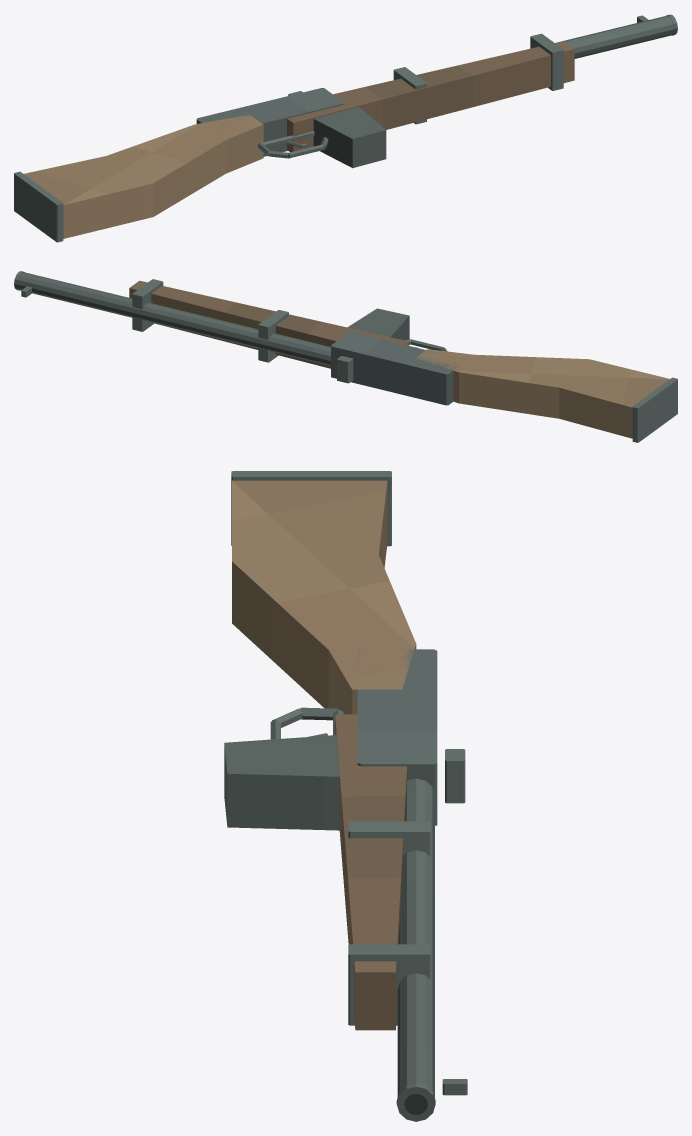
File: weapon-m1-carbine.glb
The picture shows the model from 3 angles, top to bottom: view 1: azimuth 30°, elevation 25°; view 2: azimuth 150°, elevation 25°; view 3: azimuth 270°, elevation 25°; orthographic projection. The views are drawn at different scales.
Visible parts, largest first — view 1: weapon-m1-carbine/shaped-solid-butt, weapon-m1-carbine/tapered-full-depth-forend, weapon-m1-carbine/box-magazine, weapon-m1-carbine/central-receiver, weapon-m1-carbine/butt-end-plate, weapon-m1-carbine/long-barrel, weapon-m1-carbine/stock-band-1, weapon-m1-carbine/stock-band-0; view 2: weapon-m1-carbine/shaped-solid-butt, weapon-m1-carbine/long-barrel, weapon-m1-carbine/central-receiver, weapon-m1-carbine/tapered-full-depth-forend, weapon-m1-carbine/butt-end-plate, weapon-m1-carbine/box-magazine, weapon-m1-carbine/stock-band-1, weapon-m1-carbine/stock-band-0, weapon-m1-carbine/rear-sight; view 3: weapon-m1-carbine/shaped-solid-butt, weapon-m1-carbine/tapered-full-depth-forend, weapon-m1-carbine/box-magazine, weapon-m1-carbine/long-barrel, weapon-m1-carbine/central-receiver, weapon-m1-carbine/stock-band-1, weapon-m1-carbine/butt-end-plate, weapon-m1-carbine/stock-band-0, weapon-m1-carbine/rear-sight.
Boxes of the visible parts, x1,y1,x2,y2 form: weapon-m1-carbine/shaped-solid-butt: (24,115,263,238); weapon-m1-carbine/tapered-full-depth-forend: (287,41,574,152); weapon-m1-carbine/box-magazine: (313,107,386,168); weapon-m1-carbine/central-receiver: (196,88,344,156); weapon-m1-carbine/butt-end-plate: (14,171,63,242); weapon-m1-carbine/long-barrel: (564,16,673,58); weapon-m1-carbine/stock-band-1: (530,33,563,90); weapon-m1-carbine/stock-band-0: (393,67,426,124); weapon-m1-carbine/shaped-solid-butt: (416,349,669,438); weapon-m1-carbine/long-barrel: (17,272,330,366); weapon-m1-carbine/central-receiver: (331,332,465,405); weapon-m1-carbine/tapered-full-depth-forend: (129,280,408,368); weapon-m1-carbine/butt-end-plate: (632,377,677,442); weapon-m1-carbine/box-magazine: (347,308,409,340); weapon-m1-carbine/stock-band-1: (132,279,163,331); weapon-m1-carbine/stock-band-0: (258,310,288,362); weapon-m1-carbine/rear-sight: (337,356,353,383); weapon-m1-carbine/shaped-solid-butt: (232,480,416,714); weapon-m1-carbine/tapered-full-depth-forend: (335,714,406,1030); weapon-m1-carbine/box-magazine: (224,735,339,830); weapon-m1-carbine/long-barrel: (397,778,434,1097); weapon-m1-carbine/central-receiver: (357,649,437,825); weapon-m1-carbine/stock-band-1: (348,944,430,1025); weapon-m1-carbine/butt-end-plate: (231,471,391,546); weapon-m1-carbine/stock-band-0: (348,821,430,856); weapon-m1-carbine/rear-sight: (445,749,465,803).
Bounding box in the file's own units: 0.908 × 0.05 × 0.156.
3 materials, 3 textured.
